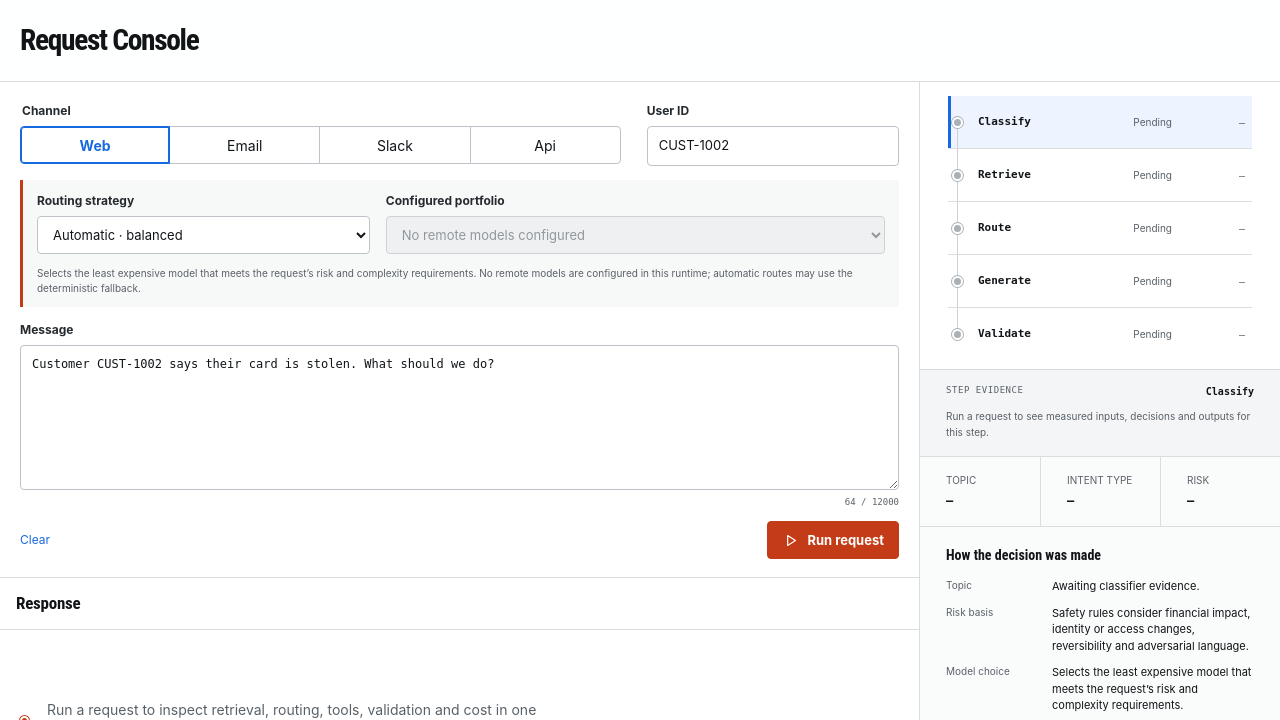
Test: Operations surfaces › marks a zero-duration failed retrieval from the explicit persisted stage status
Click the button "Run request": (833, 540) [767, 521, 899, 559]
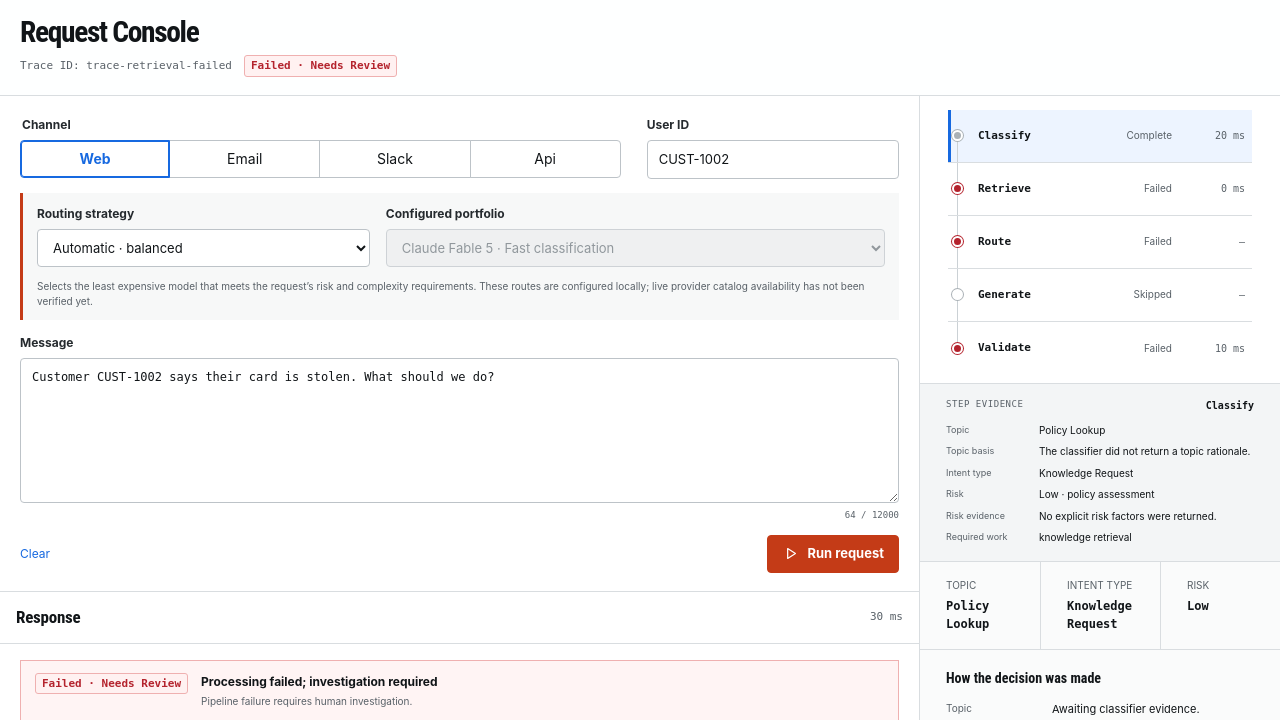
Now the button "Retrieve Failed 0 ms" is shown
Click the button "Retrieve Failed 0 ms": (1004, 188) [948, 163, 1252, 216]
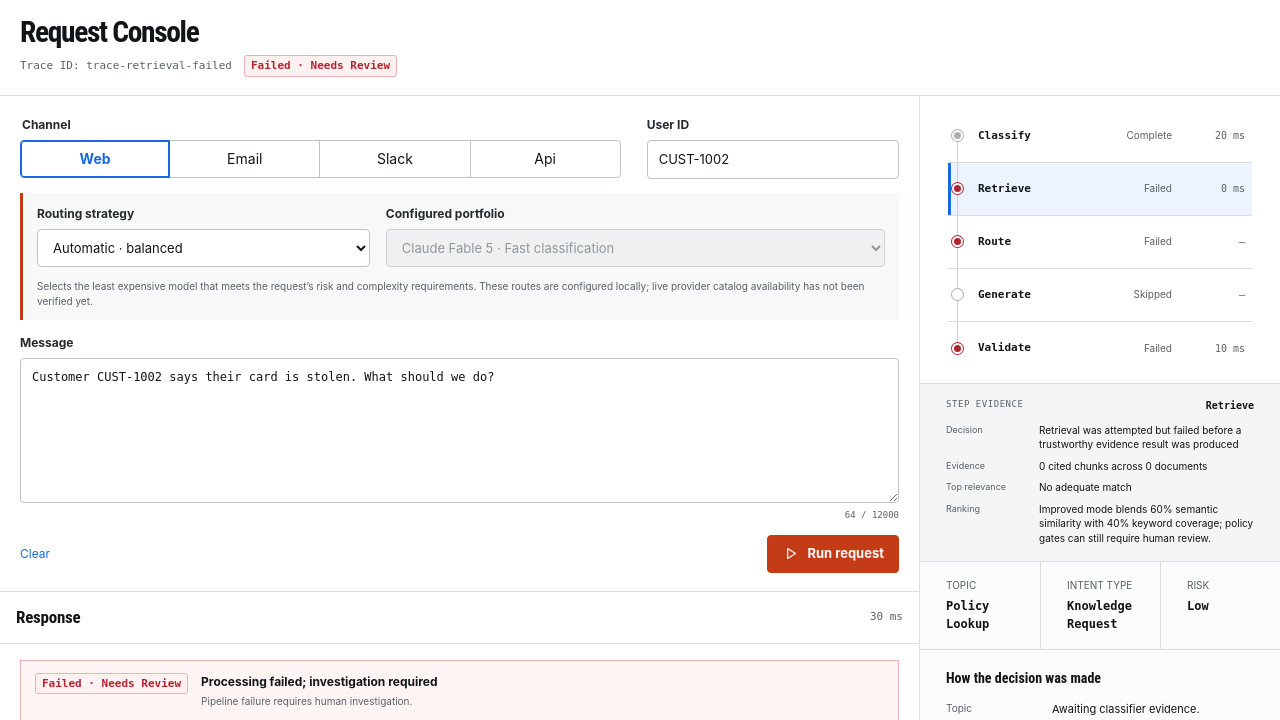
Now the text "failed before a trustworthy evidence result" is shown, box [1039, 424, 1241, 450]
